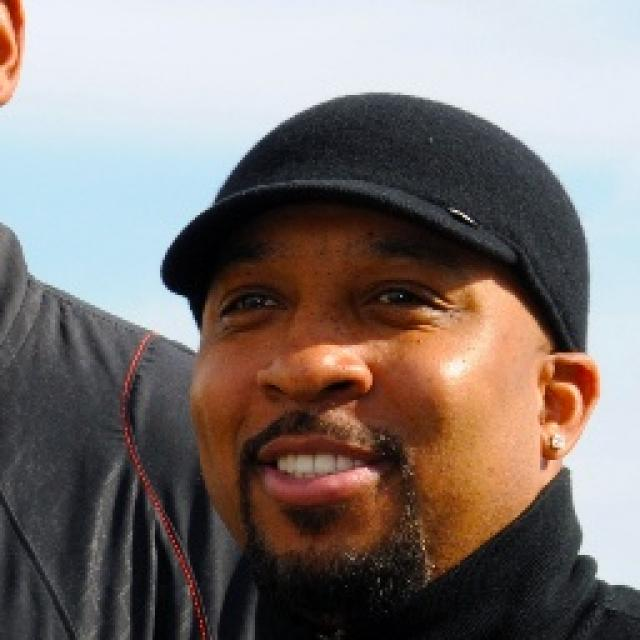earlobe: (540, 426, 583, 459), (0, 74, 12, 107)
eye: (368, 288, 442, 314), (221, 290, 285, 314)
nose: (261, 386, 366, 426)
wholeear: (541, 350, 601, 460), (0, 0, 28, 108)
